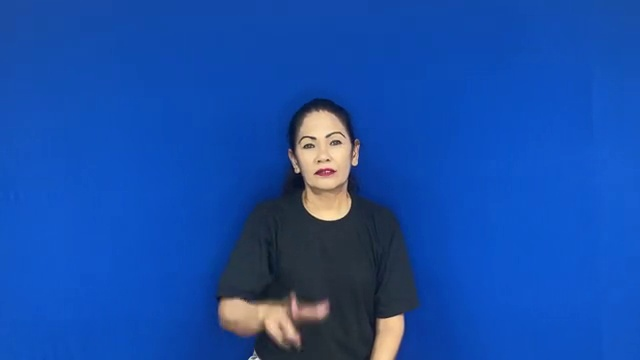chicken: (251, 291, 338, 354)
